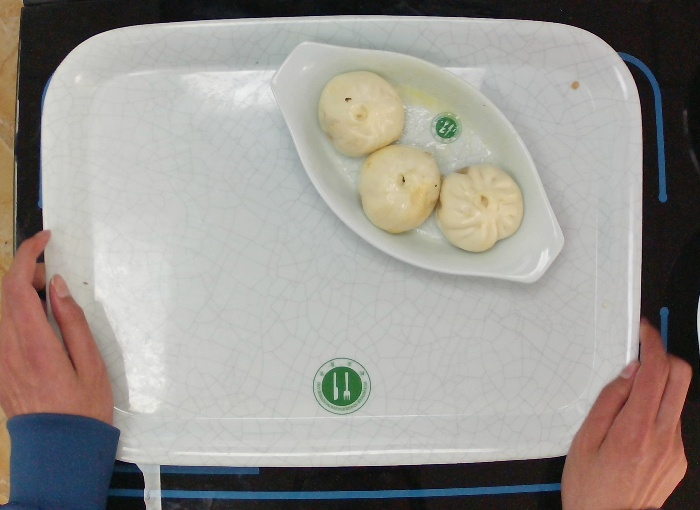JYsf-Yu_Pan: (262, 36, 569, 291)
